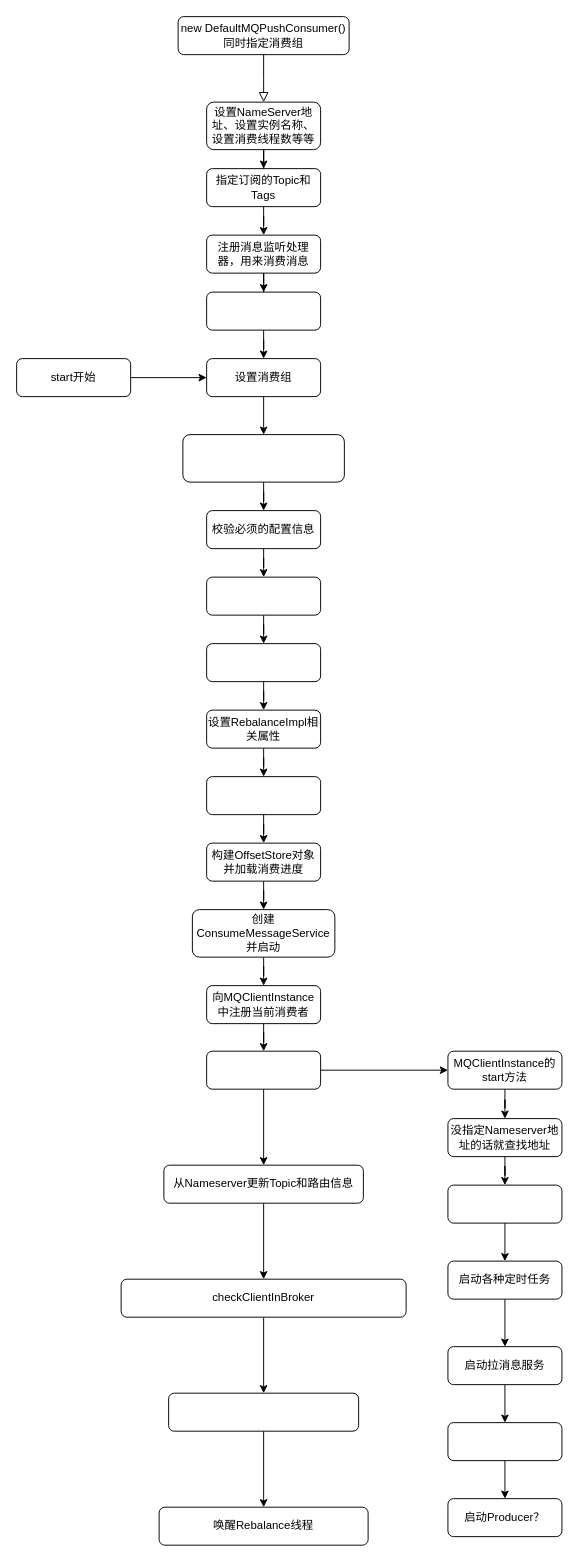
The diagram is 579 pixels wide and 1562 high, and some of its shapes have lost their labels. Each missing label, with the centre of its shape:
"创建MQClientInstance" belongs at point 263,662.
"向所有Broker发送心跳" belongs at point 263,1411.
"启动MQClientInstance" belongs at point 263,1069.
"启动Netty远程通信" belongs at point 504,1203.
"启动消费端负载均衡服务" belongs at point 504,1441.
"复制订阅关系" belongs at point 263,595.
"实例化PullAPIWrapper对象" belongs at point 263,795.
"调用DefaultMQPushConsumerImpl的start方法" belongs at point 263,458.
"调用start方法启动消费者" belongs at point 263,310.
